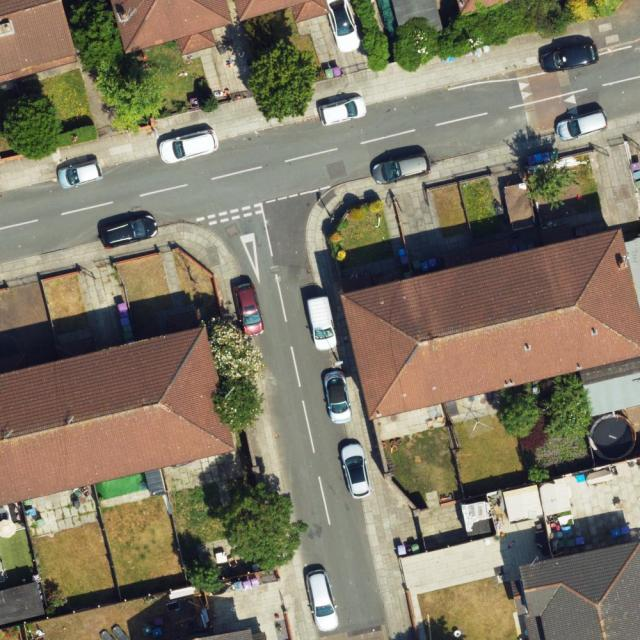roof: (337, 227, 640, 422), (0, 325, 234, 507), (506, 540, 640, 640), (108, 0, 232, 55), (0, 0, 79, 81), (233, 0, 332, 21)
